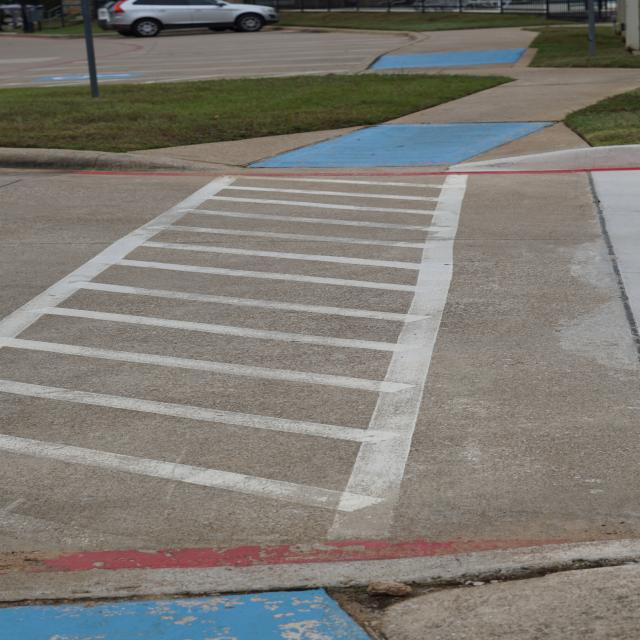Automobile: (106, 0, 278, 37)
Obstacle: (81, 0, 99, 97)
Road: (0, 170, 640, 601), (96, 31, 404, 82), (0, 36, 87, 87)
Sidewalk: (138, 28, 640, 168), (1, 562, 640, 640)
